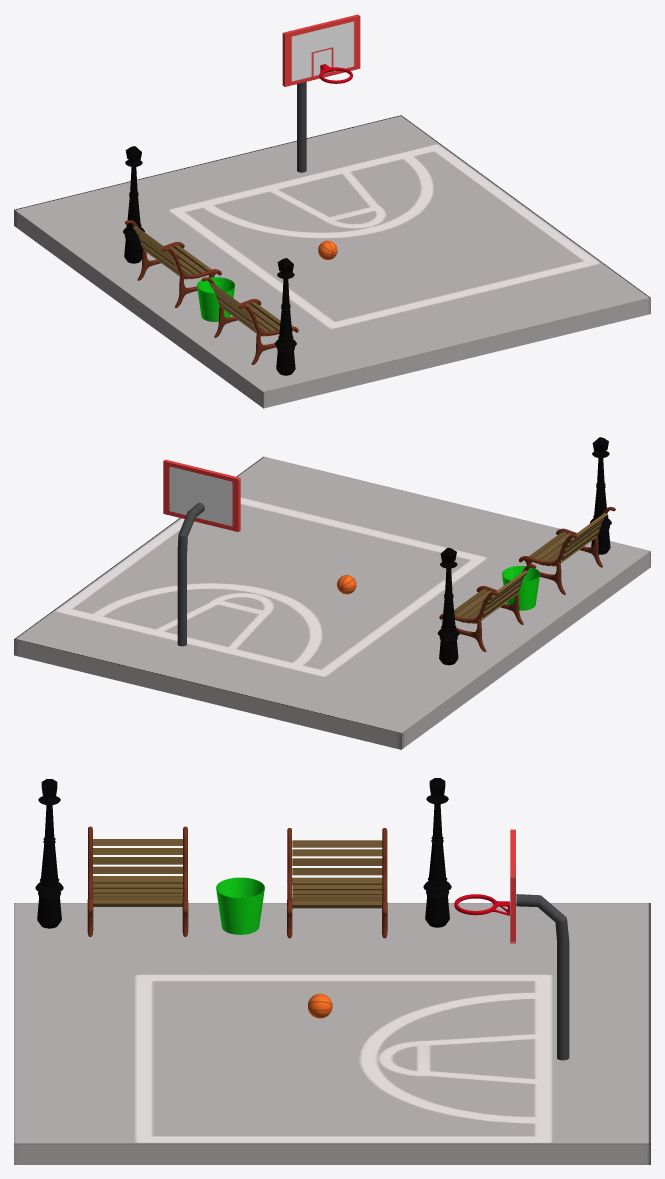
File: basketball_court.glb
The picture shows the model from 3 angles, top to bottom: view 1: azimuth 30°, elevation 25°; view 2: azimuth 150°, elevation 25°; view 3: azimuth 270°, elevation 25°; orthographic projection. The views are drawn at different scales.
Visible parts, largest first — view 1: Ground, Basketball Rim, Street Lamp.001, Street Lamp, Bench Planks.001, Bench Planks, Bin, Bench Frame.001, Bench Frame, Basketball Stand; view 2: Ground, Basketball Rim, Street Lamp, Basketball Stand, Bench Planks, Bench Planks.001, Street Lamp.001, Bench Frame, Bin, Bench Frame.001; view 3: Ground, Bench Planks.001, Bench Planks, Basketball Stand, Street Lamp, Street Lamp.001, Bin, Bench Frame.001, Bench Frame, Basketball Rim, Basketball Hoop.
Part boxes in pixels (x1,y1,x2,y2): Ground: (14,115,650,408); Basketball Rim: (282,14,360,86); Street Lamp.001: (275,258,296,375); Street Lamp: (123,146,144,263); Bench Planks.001: (133,226,211,279); Bench Planks: (210,283,280,336); Bin: (197,277,234,321); Bench Frame.001: (125,220,221,307); Bench Frame: (201,277,298,364); Basketball Stand: (297,82,306,172); Ground: (14,456,650,749); Basketball Rim: (163,459,240,531); Street Lamp: (437,547,459,665); Basketball Stand: (177,503,204,646); Bench Planks: (529,513,607,566); Bench Planks.001: (454,570,527,623); Street Lamp.001: (590,437,611,554); Bench Frame: (519,507,615,594); Bin: (502,566,539,610); Bench Frame.001: (439,564,536,652); Ground: (14,903,650,1164); Bench Planks.001: (292,840,382,908); Bench Planks: (93,839,182,906); Basketball Stand: (516,894,569,1060); Street Lamp: (423,778,451,927); Street Lamp.001: (35,779,63,928); Bin: (216,877,264,934); Bench Frame.001: (286,828,387,938); Bench Frame: (87,826,188,936); Basketball Rim: (510,829,515,943); Basketball Hoop: (454,894,509,915).
Bounding box in the file's own units: 12.76 × 5.64 × 14.24.
Materials: 10 (10 with a texture image).
